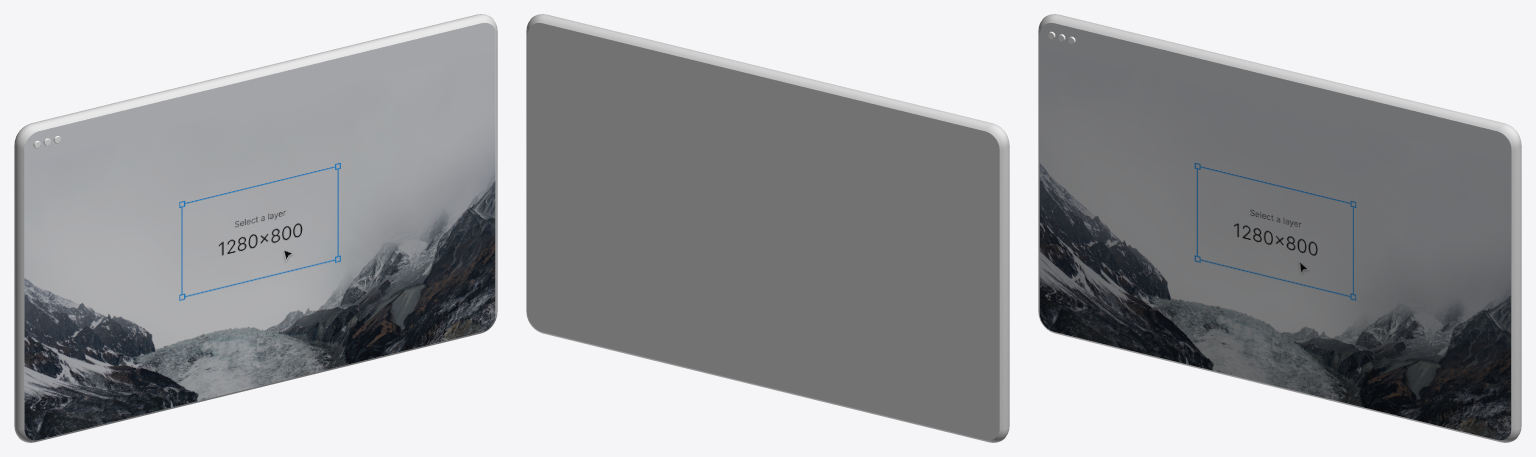
Rendered from browser.gltf.
3 views of the same model, side by side, from view 1: azimuth 30°, elevation 25°; view 2: azimuth 150°, elevation 25°; view 3: azimuth 330°, elevation 25° (orthographic).
Visible parts, largest first — view 1: Screen, Frame; view 2: Frame; view 3: Screen, Frame.
Boxes of the visible parts, bbox=[...] form: Screen: bbox=[24, 23, 496, 440]; Frame: bbox=[14, 14, 497, 442]; Frame: bbox=[526, 14, 1009, 442]; Screen: bbox=[1039, 23, 1511, 440]; Frame: bbox=[1038, 14, 1521, 442].
Size of the model in its own units: 3.61 by 2.28 by 0.1244.
Materials: 3 (1 with a texture image).
